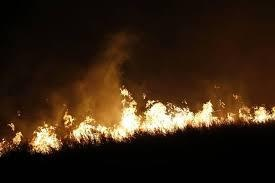fire: (38, 81, 275, 139)
